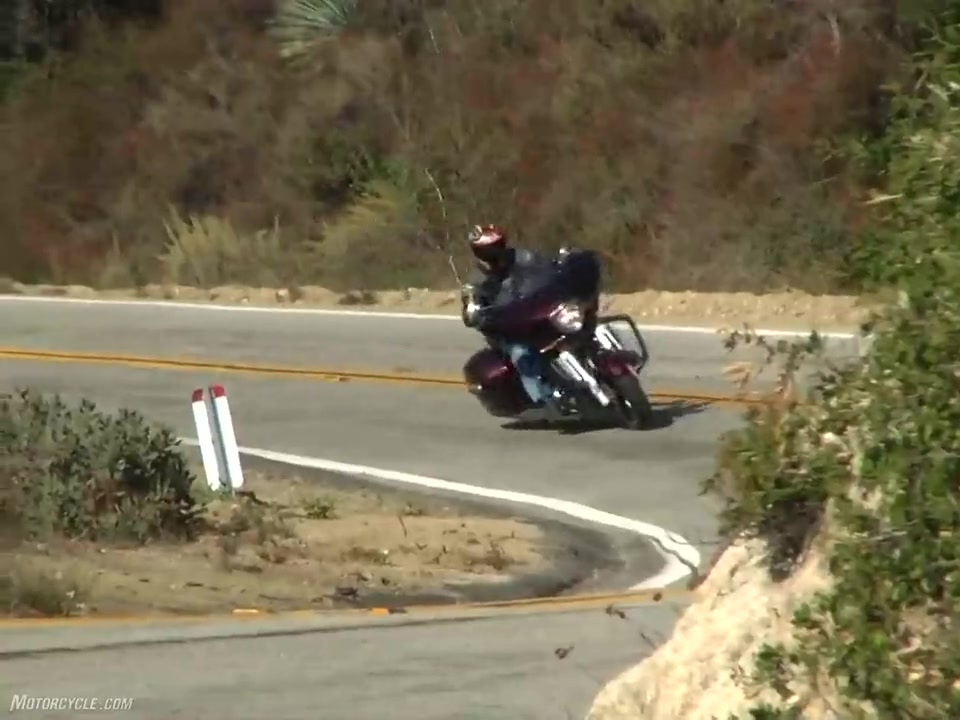motorbike: (461, 245, 654, 432)
